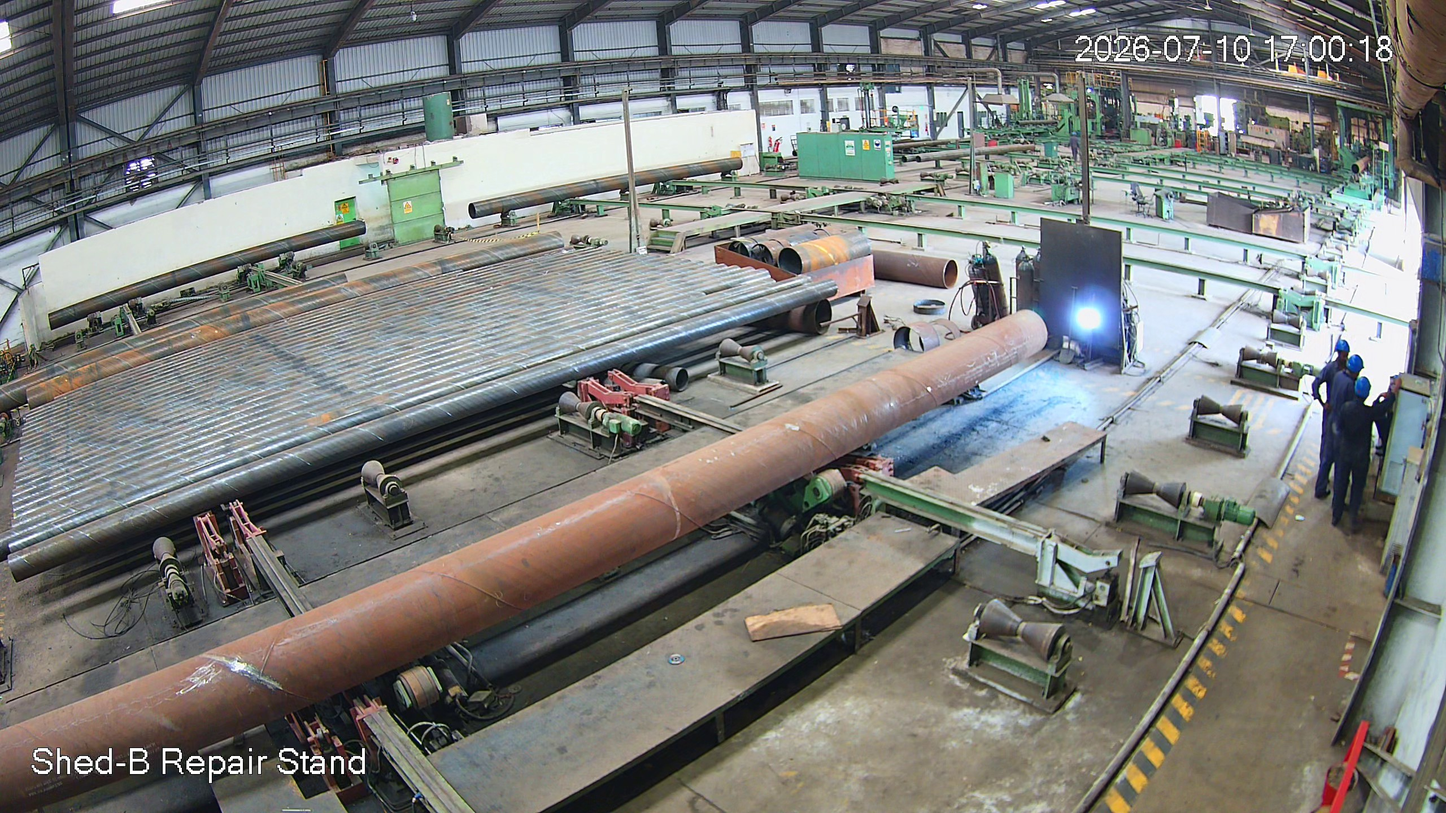Helmet: (1331, 331, 1357, 362), (1347, 352, 1369, 375), (1357, 376, 1372, 408)
Person: (1308, 335, 1353, 483), (1332, 377, 1375, 531), (1322, 356, 1367, 475)
